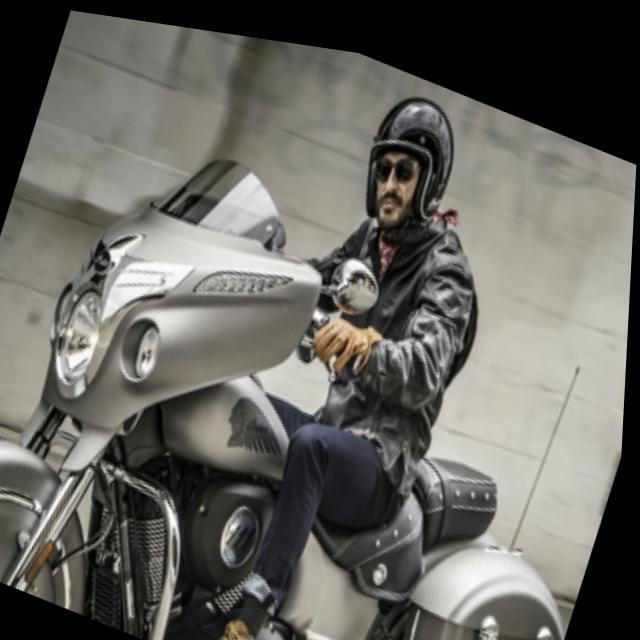Helmet: (354, 78, 458, 238)
